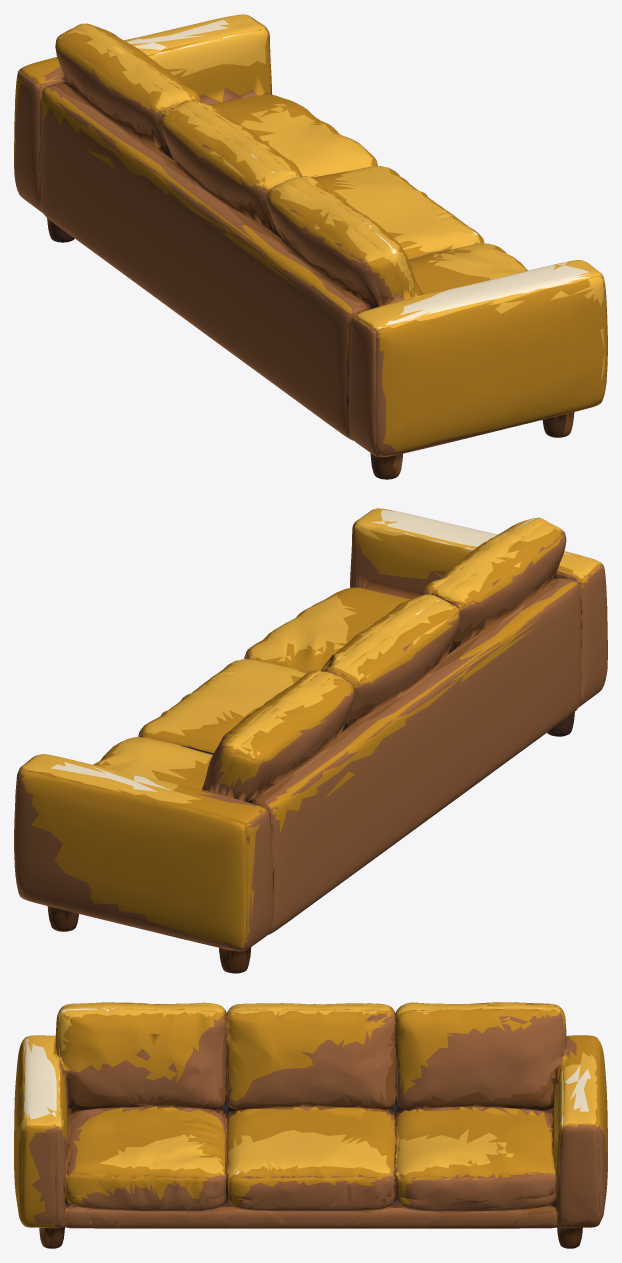
Rendered from SM_sofa_3seat_tan.fbx.
3 views of the same model, one above another, from view 1: azimuth 30°, elevation 25°; view 2: azimuth 150°, elevation 25°; view 3: azimuth 270°, elevation 25° (orthographic). The views are drawn at different scales.
Visible parts, largest first — view 1: SM_sofa_3seat_tan; view 2: SM_sofa_3seat_tan; view 3: SM_sofa_3seat_tan.
Boxes of the visible parts, box(x1,y1,x2,y2) form: SM_sofa_3seat_tan: box(14, 14, 607, 479); SM_sofa_3seat_tan: box(14, 508, 607, 973); SM_sofa_3seat_tan: box(14, 1002, 607, 1248).
Bounding box in the file's own units: 101 × 85 × 258.
1 material, 1 textured.
